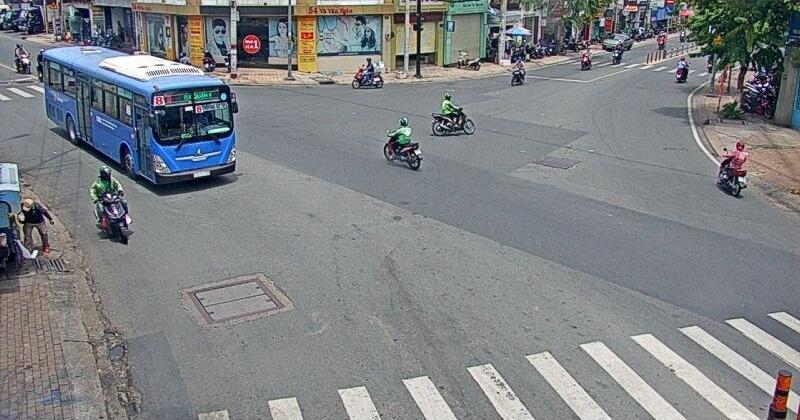xe buyt: (37, 44, 238, 191)
xe may: (90, 162, 132, 242), (428, 92, 474, 139), (382, 118, 420, 170)
